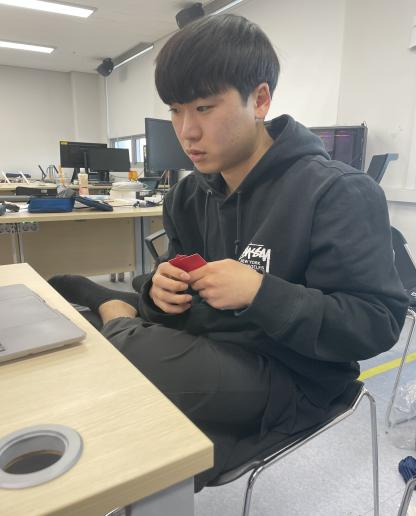ThreeHwatoo: (175, 252, 200, 261)
